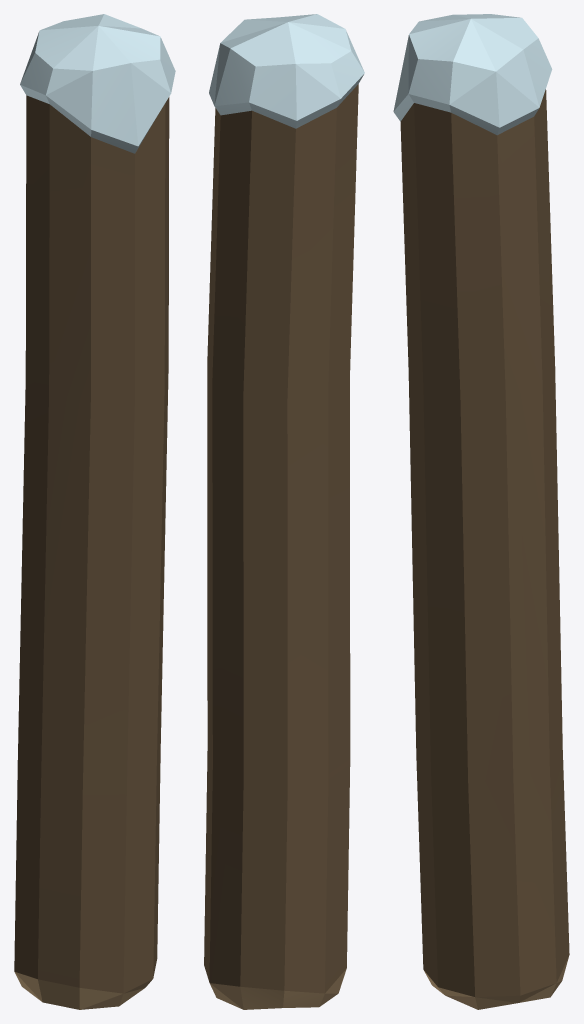
Rendered from Palo_Cerca03.glb.
3 views of the same model, side by side, from view 1: azimuth 30°, elevation 25°; view 2: azimuth 150°, elevation 25°; view 3: azimuth 270°, elevation 25° (orthographic).
Parts seen in each view (by area): view 1: SM_Prop_Fence_Wood_Pole_03_Snow; view 2: SM_Prop_Fence_Wood_Pole_03_Snow; view 3: SM_Prop_Fence_Wood_Pole_03_Snow.
Boxes of the visible parts, x1,y1,x2,y2 form: SM_Prop_Fence_Wood_Pole_03_Snow: [14, 14, 175, 1009]; SM_Prop_Fence_Wood_Pole_03_Snow: [204, 14, 364, 1009]; SM_Prop_Fence_Wood_Pole_03_Snow: [393, 14, 569, 1009].
Bounding box in the file's own units: 0.4985 × 3.51 × 0.5748.
Materials: 1 (1 with a texture image).
